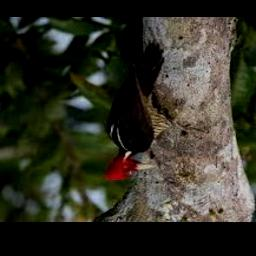Woodpecker: (104, 43, 205, 181)
